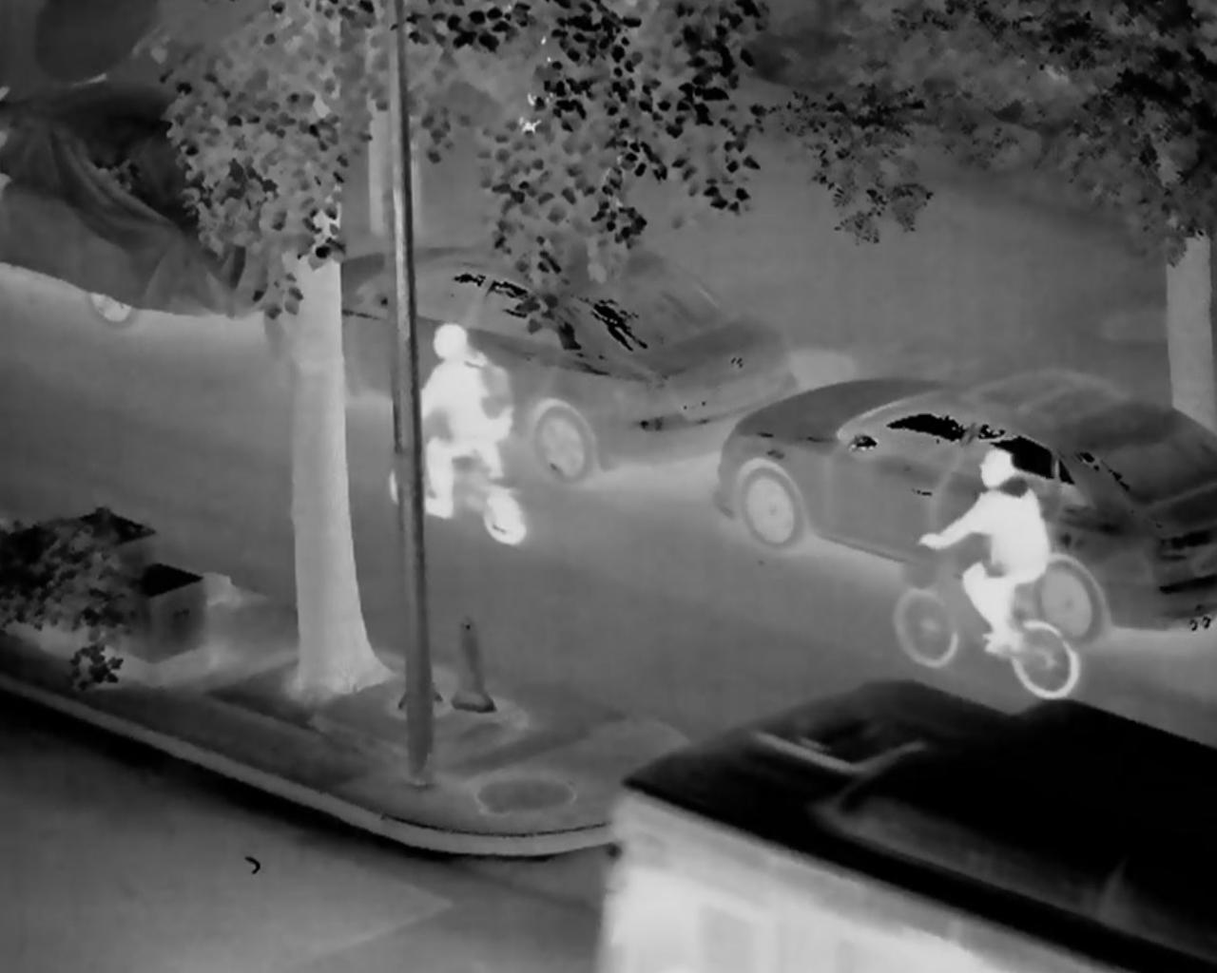person: (922, 433, 1049, 667), (401, 312, 519, 533)
